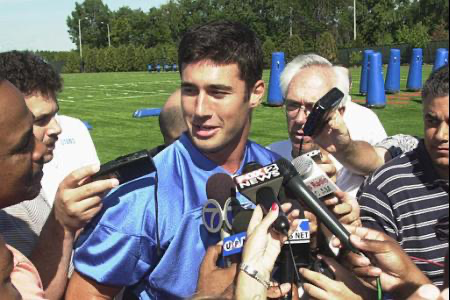Face: (177, 65, 255, 152), (0, 102, 54, 202), (285, 79, 338, 155), (27, 82, 69, 166), (415, 91, 448, 163)
